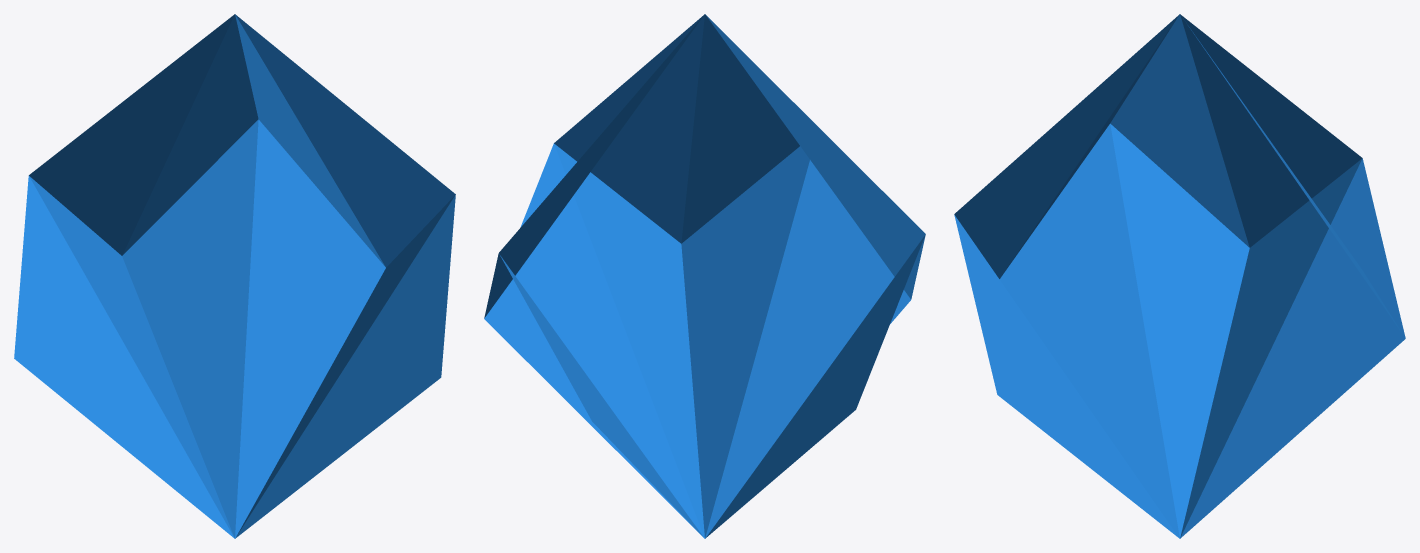
The model's file is d10_percentile_blue.gltf.
The picture shows the model from 3 angles, left to right: view 1: azimuth 30°, elevation 25°; view 2: azimuth 150°, elevation 25°; view 3: azimuth 270°, elevation 25°; orthographic projection.
Parts seen in each view (by area): view 1: D10; view 2: D10; view 3: D10.
Boxes of the visible parts, x1=… form: D10: x1=14, y1=14, x2=455, y2=538; D10: x1=484, y1=14, x2=925, y2=538; D10: x1=954, y1=14, x2=1405, y2=538.
Bounding box in the file's own units: 1.75 × 2.36 × 1.84.
